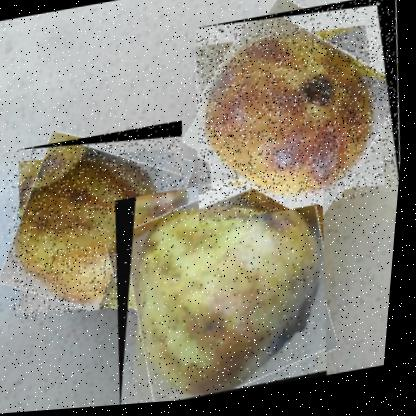guava_rotten: (103, 166, 348, 407), (180, 0, 414, 231), (0, 121, 202, 327)
